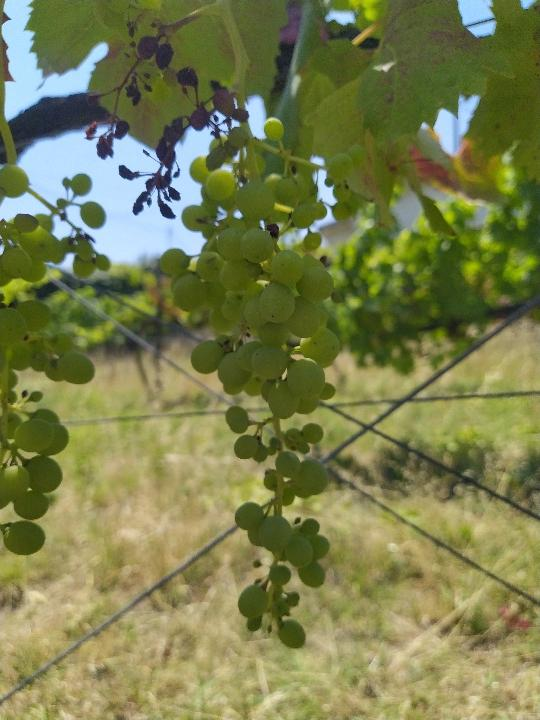grape: (160, 115, 366, 655), (75, 10, 253, 219)
